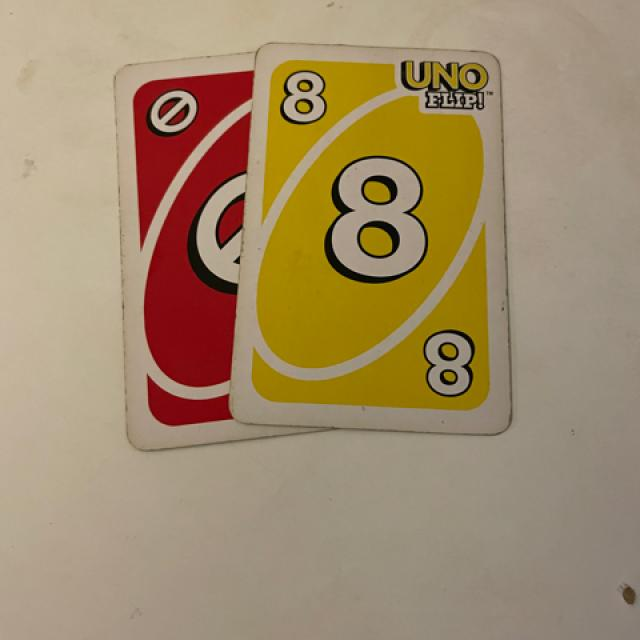lredskip-20: (130, 74, 216, 156)
lyellow-8: (268, 54, 340, 142)
